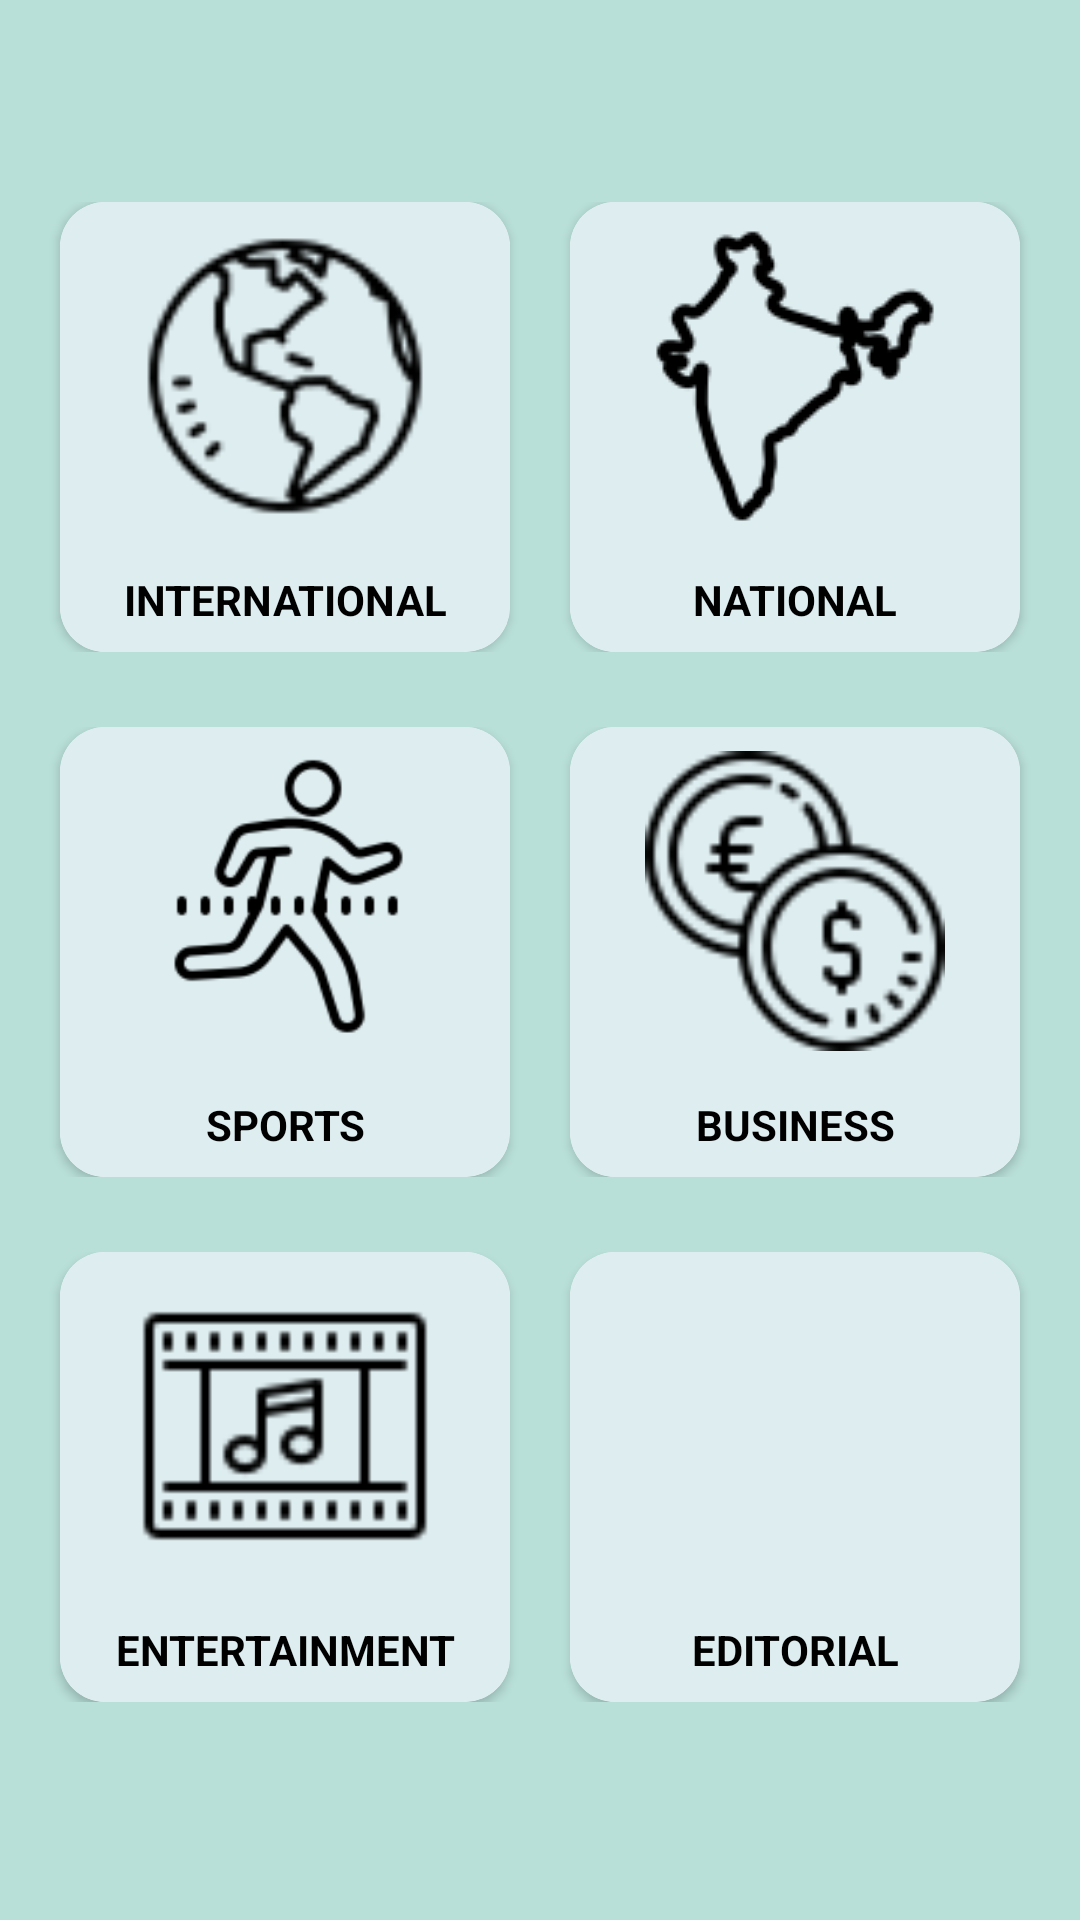

Locate icon controls on the screen. Image size 1080px×1920px, boxes as (x1, y1, x2, y2).
globe: (147, 238, 423, 514)
india: (656, 231, 934, 521)
